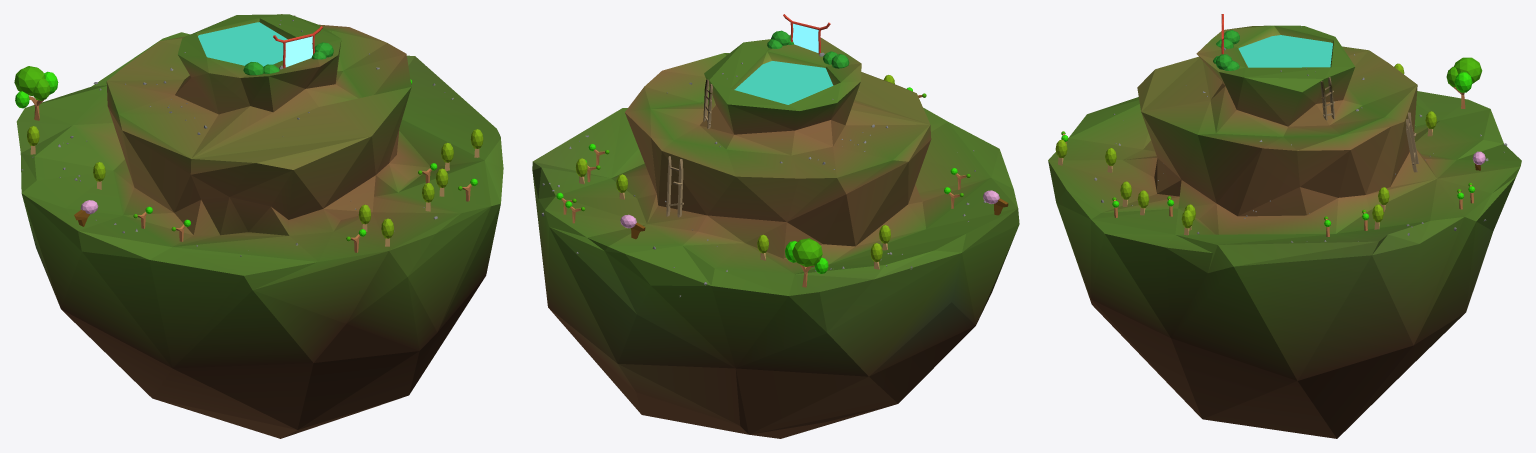
3 views of the same model, side by side, from view 1: azimuth 30°, elevation 25°; view 2: azimuth 150°, elevation 25°; view 3: azimuth 270°, elevation 25° (orthographic). The views are drawn at different scales.
Visible parts, largest first — view 1: Island.004, Water.004, Tree1 - 2.045, Magical Portal.004; view 2: Island.004, Water.004, Tree1 - 2.045, Bottom Ladder.004, Magical Portal.004; view 3: Island.004, Water.004, Tree1 - 2.045.
Part boxes in pixels (left/top/right/bottom): Island.004: left=16, top=14, right=503, bottom=438; Water.004: left=198, top=22, right=287, bottom=66; Tree1 - 2.045: left=14, top=66, right=58, bottom=120; Magical Portal.004: left=285, top=36, right=312, bottom=67; Island.004: left=532, top=37, right=1019, bottom=438; Water.004: left=734, top=61, right=833, bottom=104; Tree1 - 2.045: left=785, top=238, right=828, bottom=287; Bottom Ladder.004: left=666, top=156, right=683, bottom=217; Magical Portal.004: left=792, top=23, right=818, bottom=52; Island.004: left=1048, top=25, right=1521, bottom=438; Water.004: left=1238, top=35, right=1332, bottom=67; Tree1 - 2.045: left=1446, top=57, right=1482, bottom=108.
Size of the model in its own units: 41.96 by 39.87 by 43.73.
